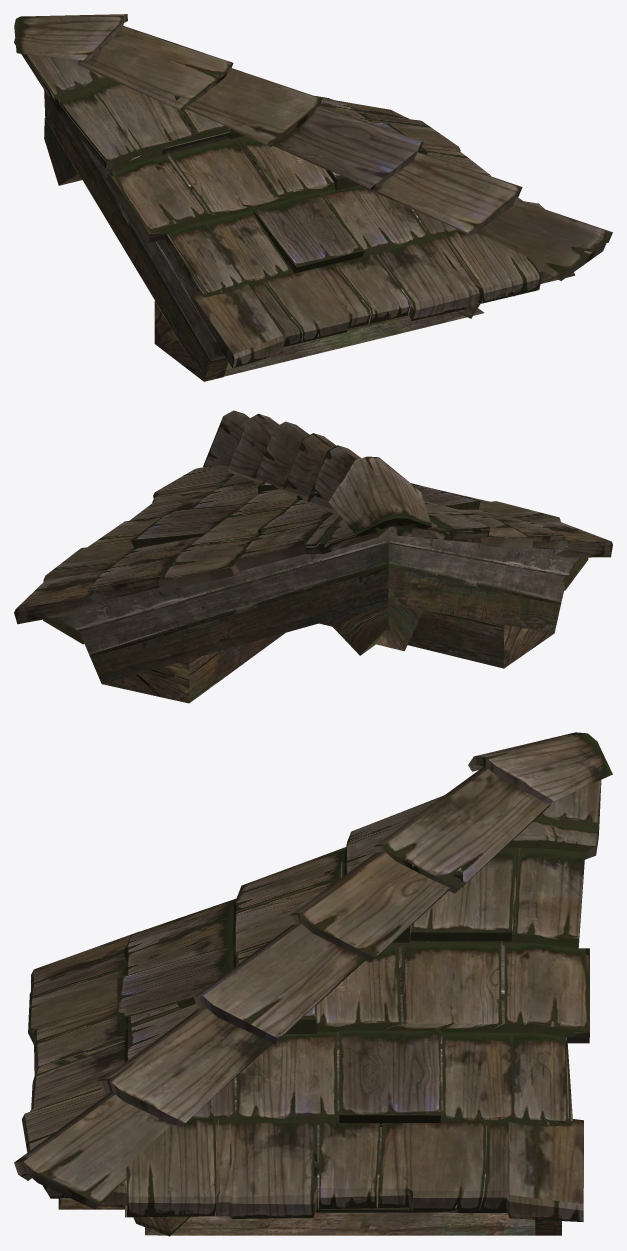
3 views of the same model, one above another, from view 1: azimuth 30°, elevation 25°; view 2: azimuth 150°, elevation 25°; view 3: azimuth 270°, elevation 25° (orthographic). The views are drawn at different scales.
Parts seen in each view (by area): view 1: SM_T1_Roof_Med_Hip_Shallow_LOD0; view 2: SM_T1_Roof_Med_Hip_Shallow_LOD0; view 3: SM_T1_Roof_Med_Hip_Shallow_LOD0.
Part boxes in pixels (x1,y1,x2,y2): SM_T1_Roof_Med_Hip_Shallow_LOD0: (14, 14, 612, 381); SM_T1_Roof_Med_Hip_Shallow_LOD0: (14, 410, 612, 703); SM_T1_Roof_Med_Hip_Shallow_LOD0: (14, 732, 612, 1236).
Size of the model in its own units: 2.16 by 1.33 by 2.16.
3 materials, 3 textured.
